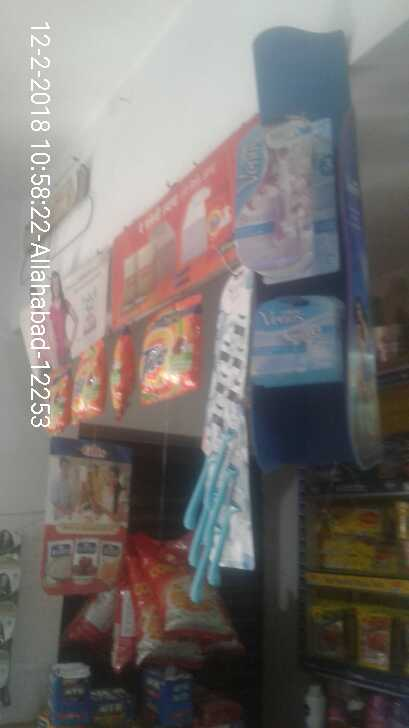home: (236, 115, 319, 279), (249, 290, 344, 389), (135, 294, 205, 402), (65, 342, 108, 420)
